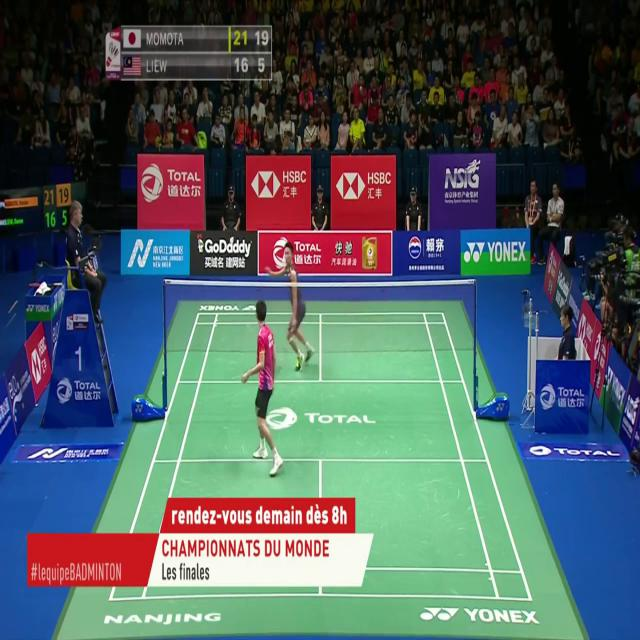Shuttlecock: (228, 234, 235, 246)
